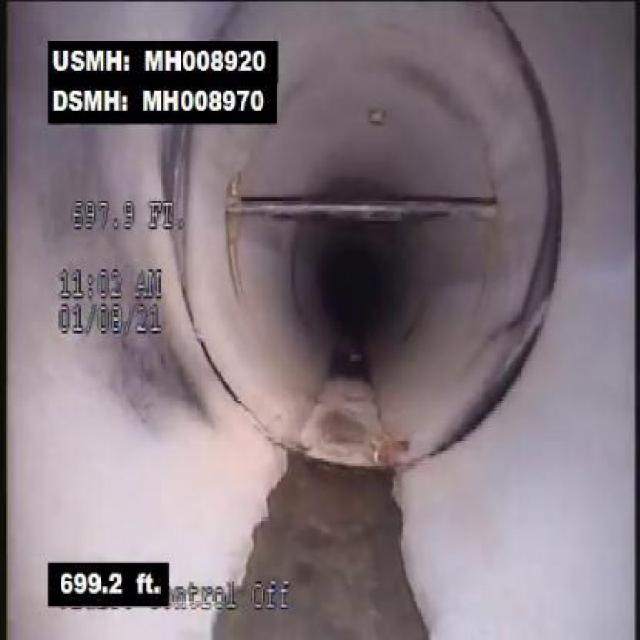Utility intrusion: (227, 188, 516, 226)
